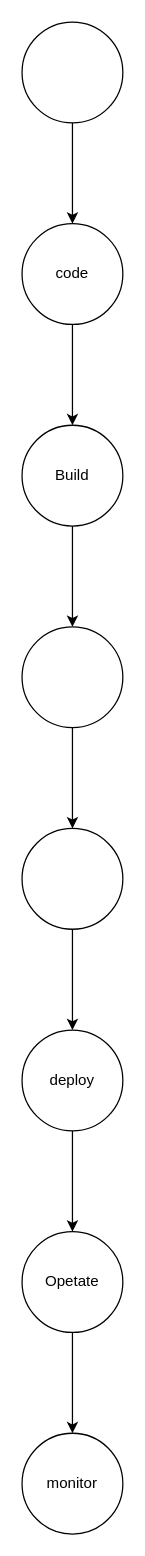
Some shapes in this 145 by 1556 pixel diagram are drawn without their labels. The shapes that lost their labels are listed below. From the top down, each one's centre as x and y in pixels, then its label:
At pixel 72 72: "plan".
At pixel 72 677: "test".
At pixel 72 878: "Release".
